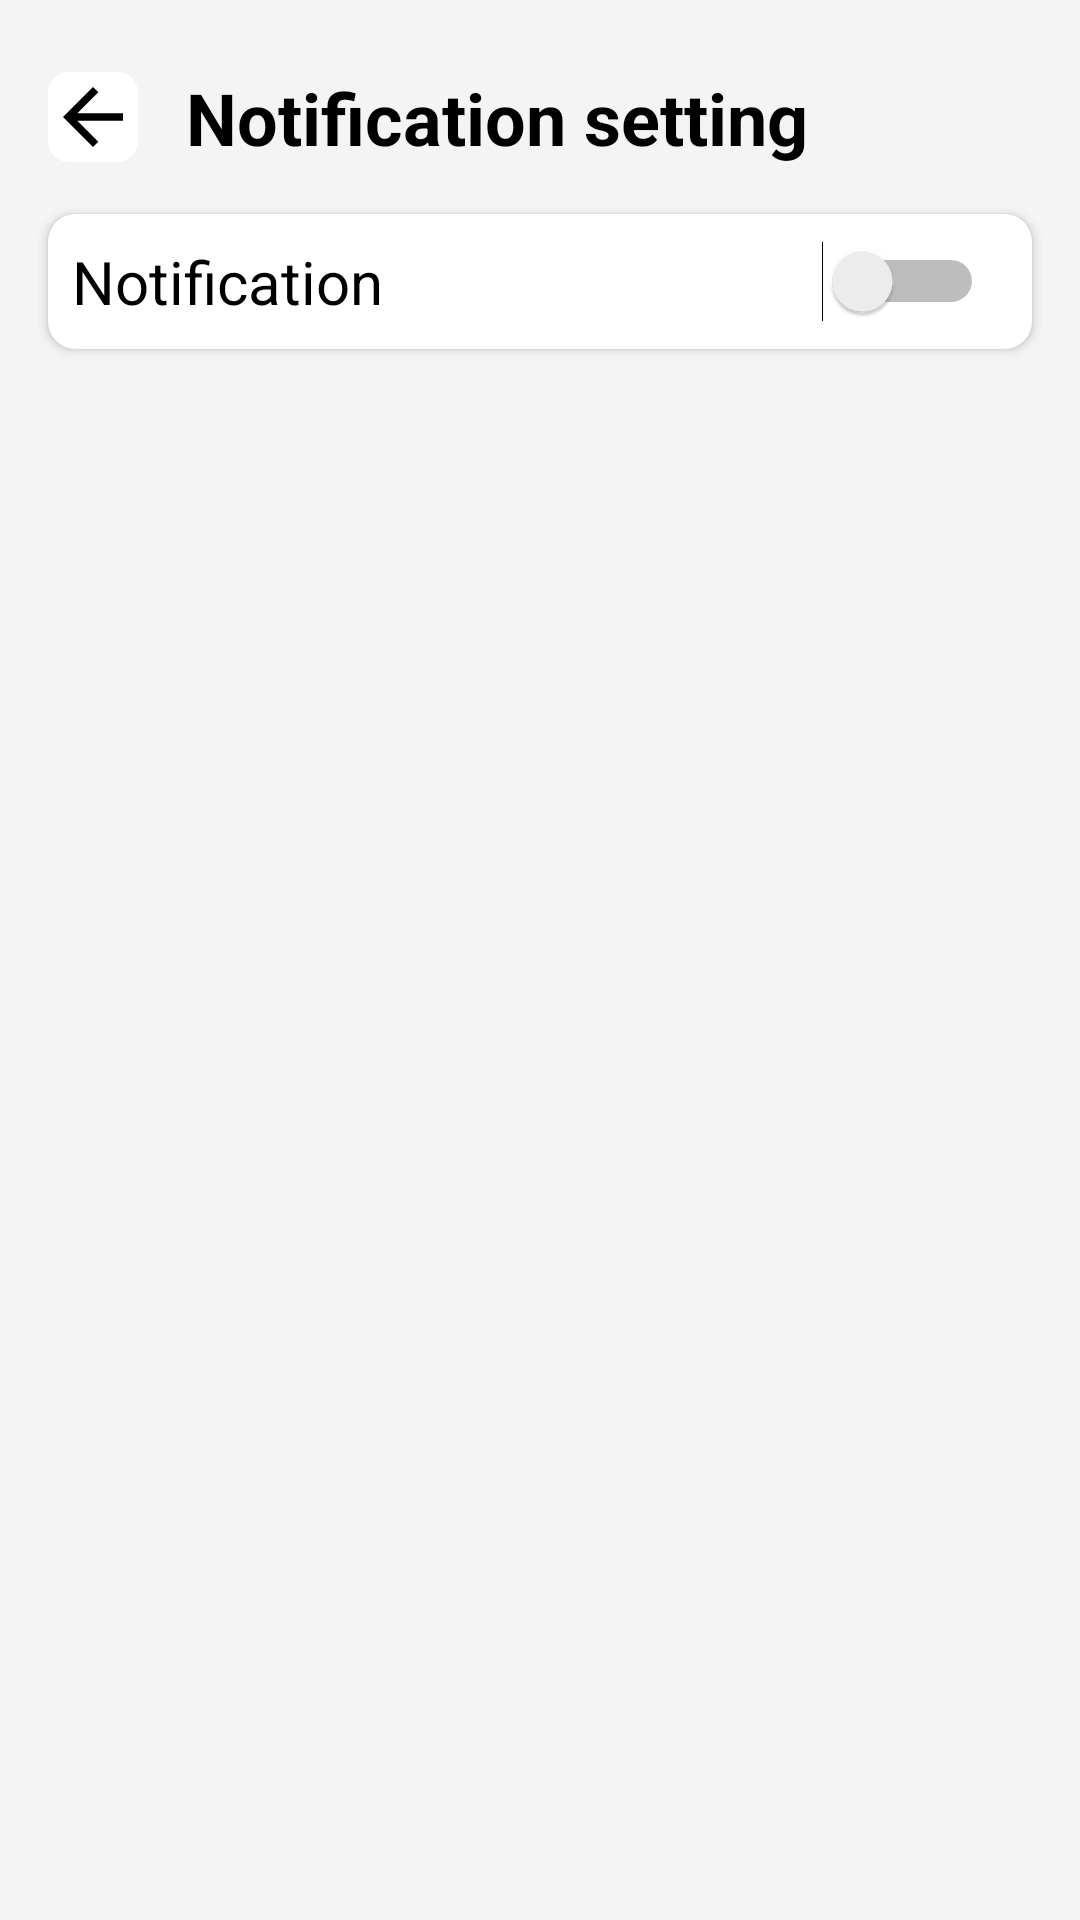

Icons on this 1080×1920 Android screen, each with the point to tap as (x,y):
back: (93,117)
